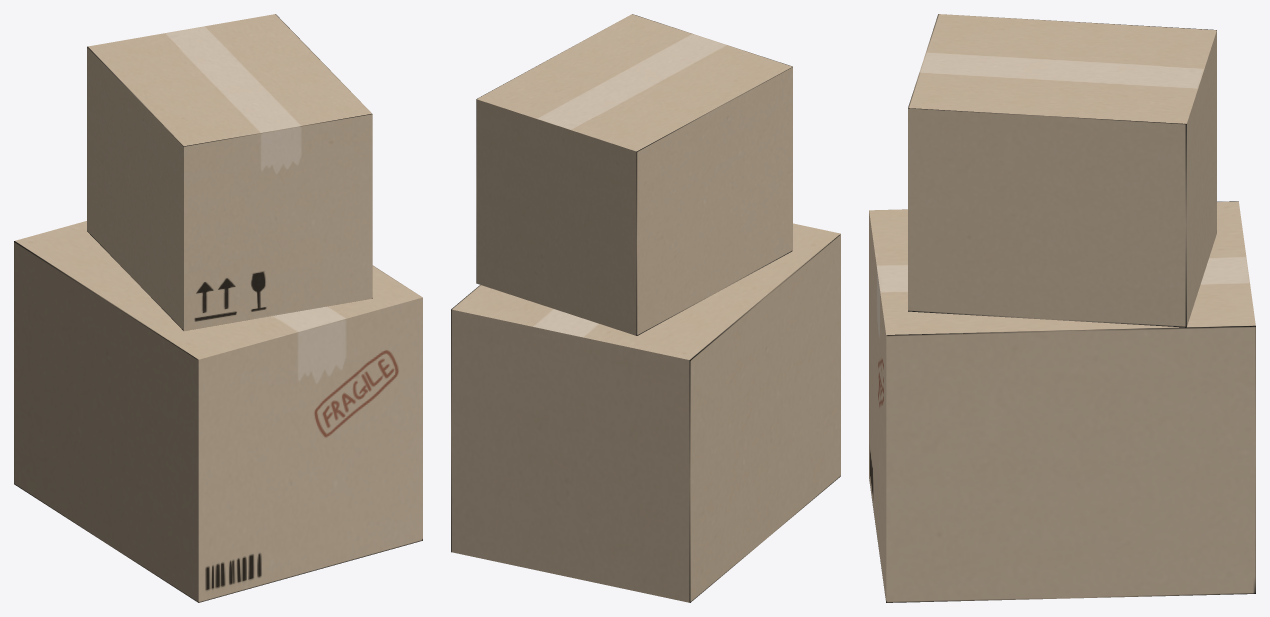
The model's file is BoxesMesh.fbx.
3 views of the same model, side by side, from view 1: azimuth 30°, elevation 25°; view 2: azimuth 150°, elevation 25°; view 3: azimuth 270°, elevation 25° (orthographic). The views are drawn at different scales.
Parts seen in each view (by area): view 1: Cube.001, Cube.002; view 2: Cube.001, Cube.002; view 3: Cube.001, Cube.002.
Part boxes in pixels (x1,y1,x2,y2): Cube.001: (14, 221, 422, 602); Cube.002: (87, 14, 372, 330); Cube.001: (451, 223, 840, 602); Cube.002: (476, 14, 792, 335); Cube.001: (869, 201, 1255, 602); Cube.002: (908, 14, 1216, 327).
Bounding box in the file's own units: 134 × 221 × 164.
